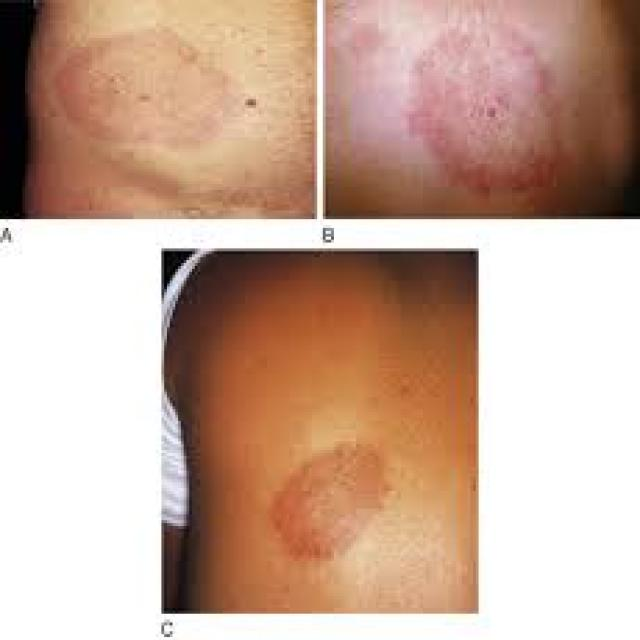kene: (409, 22, 577, 185), (55, 26, 250, 164), (274, 440, 392, 571)
